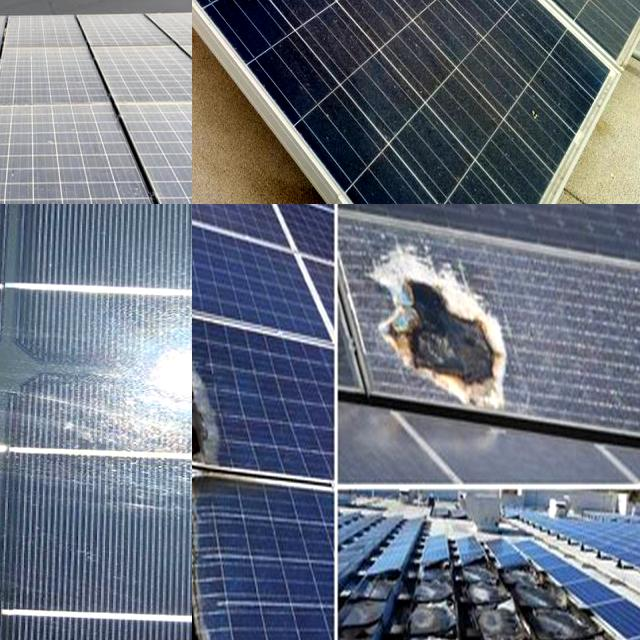dust: (387, 38, 533, 196), (465, 0, 638, 101), (245, 0, 446, 79), (298, 0, 460, 81), (0, 111, 107, 204), (192, 0, 255, 88), (0, 113, 50, 204), (12, 48, 96, 92), (0, 19, 109, 48), (109, 60, 192, 86), (102, 18, 192, 41), (0, 45, 33, 99), (0, 115, 18, 204), (0, 21, 21, 92), (0, 58, 19, 98)
shadow: (372, 216, 534, 418), (192, 342, 241, 640), (0, 345, 44, 640), (333, 571, 398, 640), (468, 592, 516, 636), (415, 601, 468, 640), (538, 614, 603, 640), (521, 590, 581, 610), (497, 564, 551, 584)
